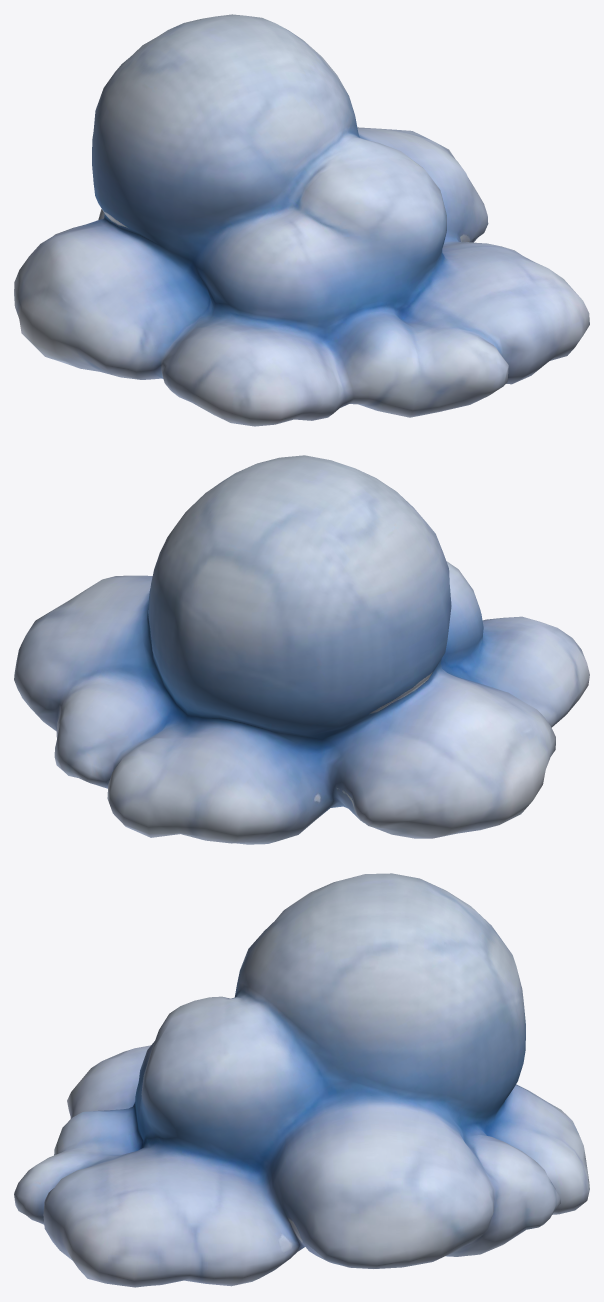
3 renders of one model, top to bottom at view 1: azimuth 30°, elevation 25°; view 2: azimuth 150°, elevation 25°; view 3: azimuth 270°, elevation 25°, orthographic. The views are drawn at different scales.
Parts seen in each view (by area): view 1: mesh; view 2: mesh; view 3: mesh.
Part boxes in pixels (x1,y1,x2,y2): mesh: [14, 14, 589, 426]; mesh: [14, 455, 589, 844]; mesh: [14, 873, 589, 1287].
Bounding box in the file's own units: 0.948 × 0.595 × 0.9968.
Materials: 1 (1 with a texture image).
